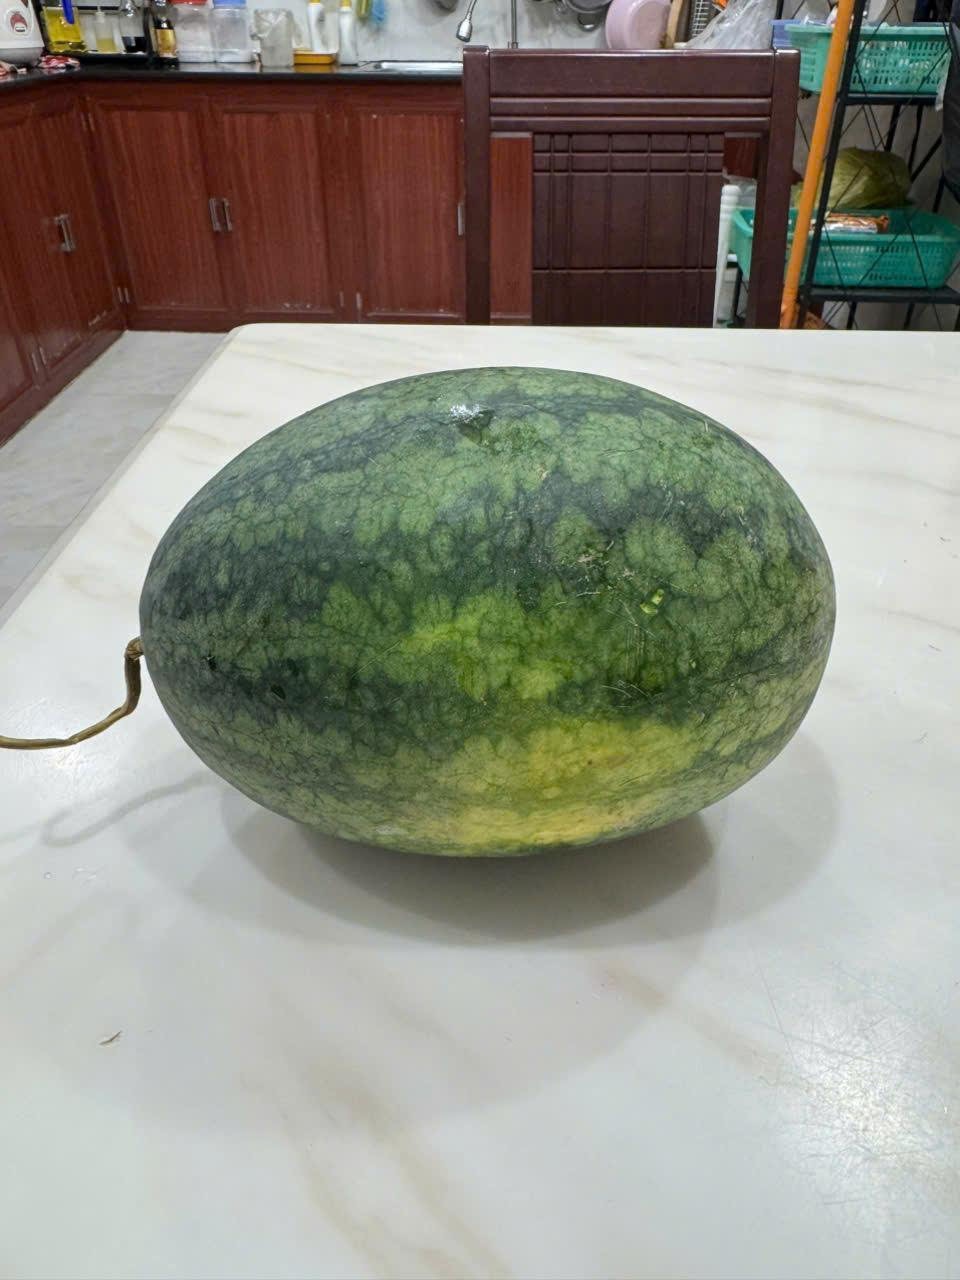watermelon: (86, 348, 894, 876)
